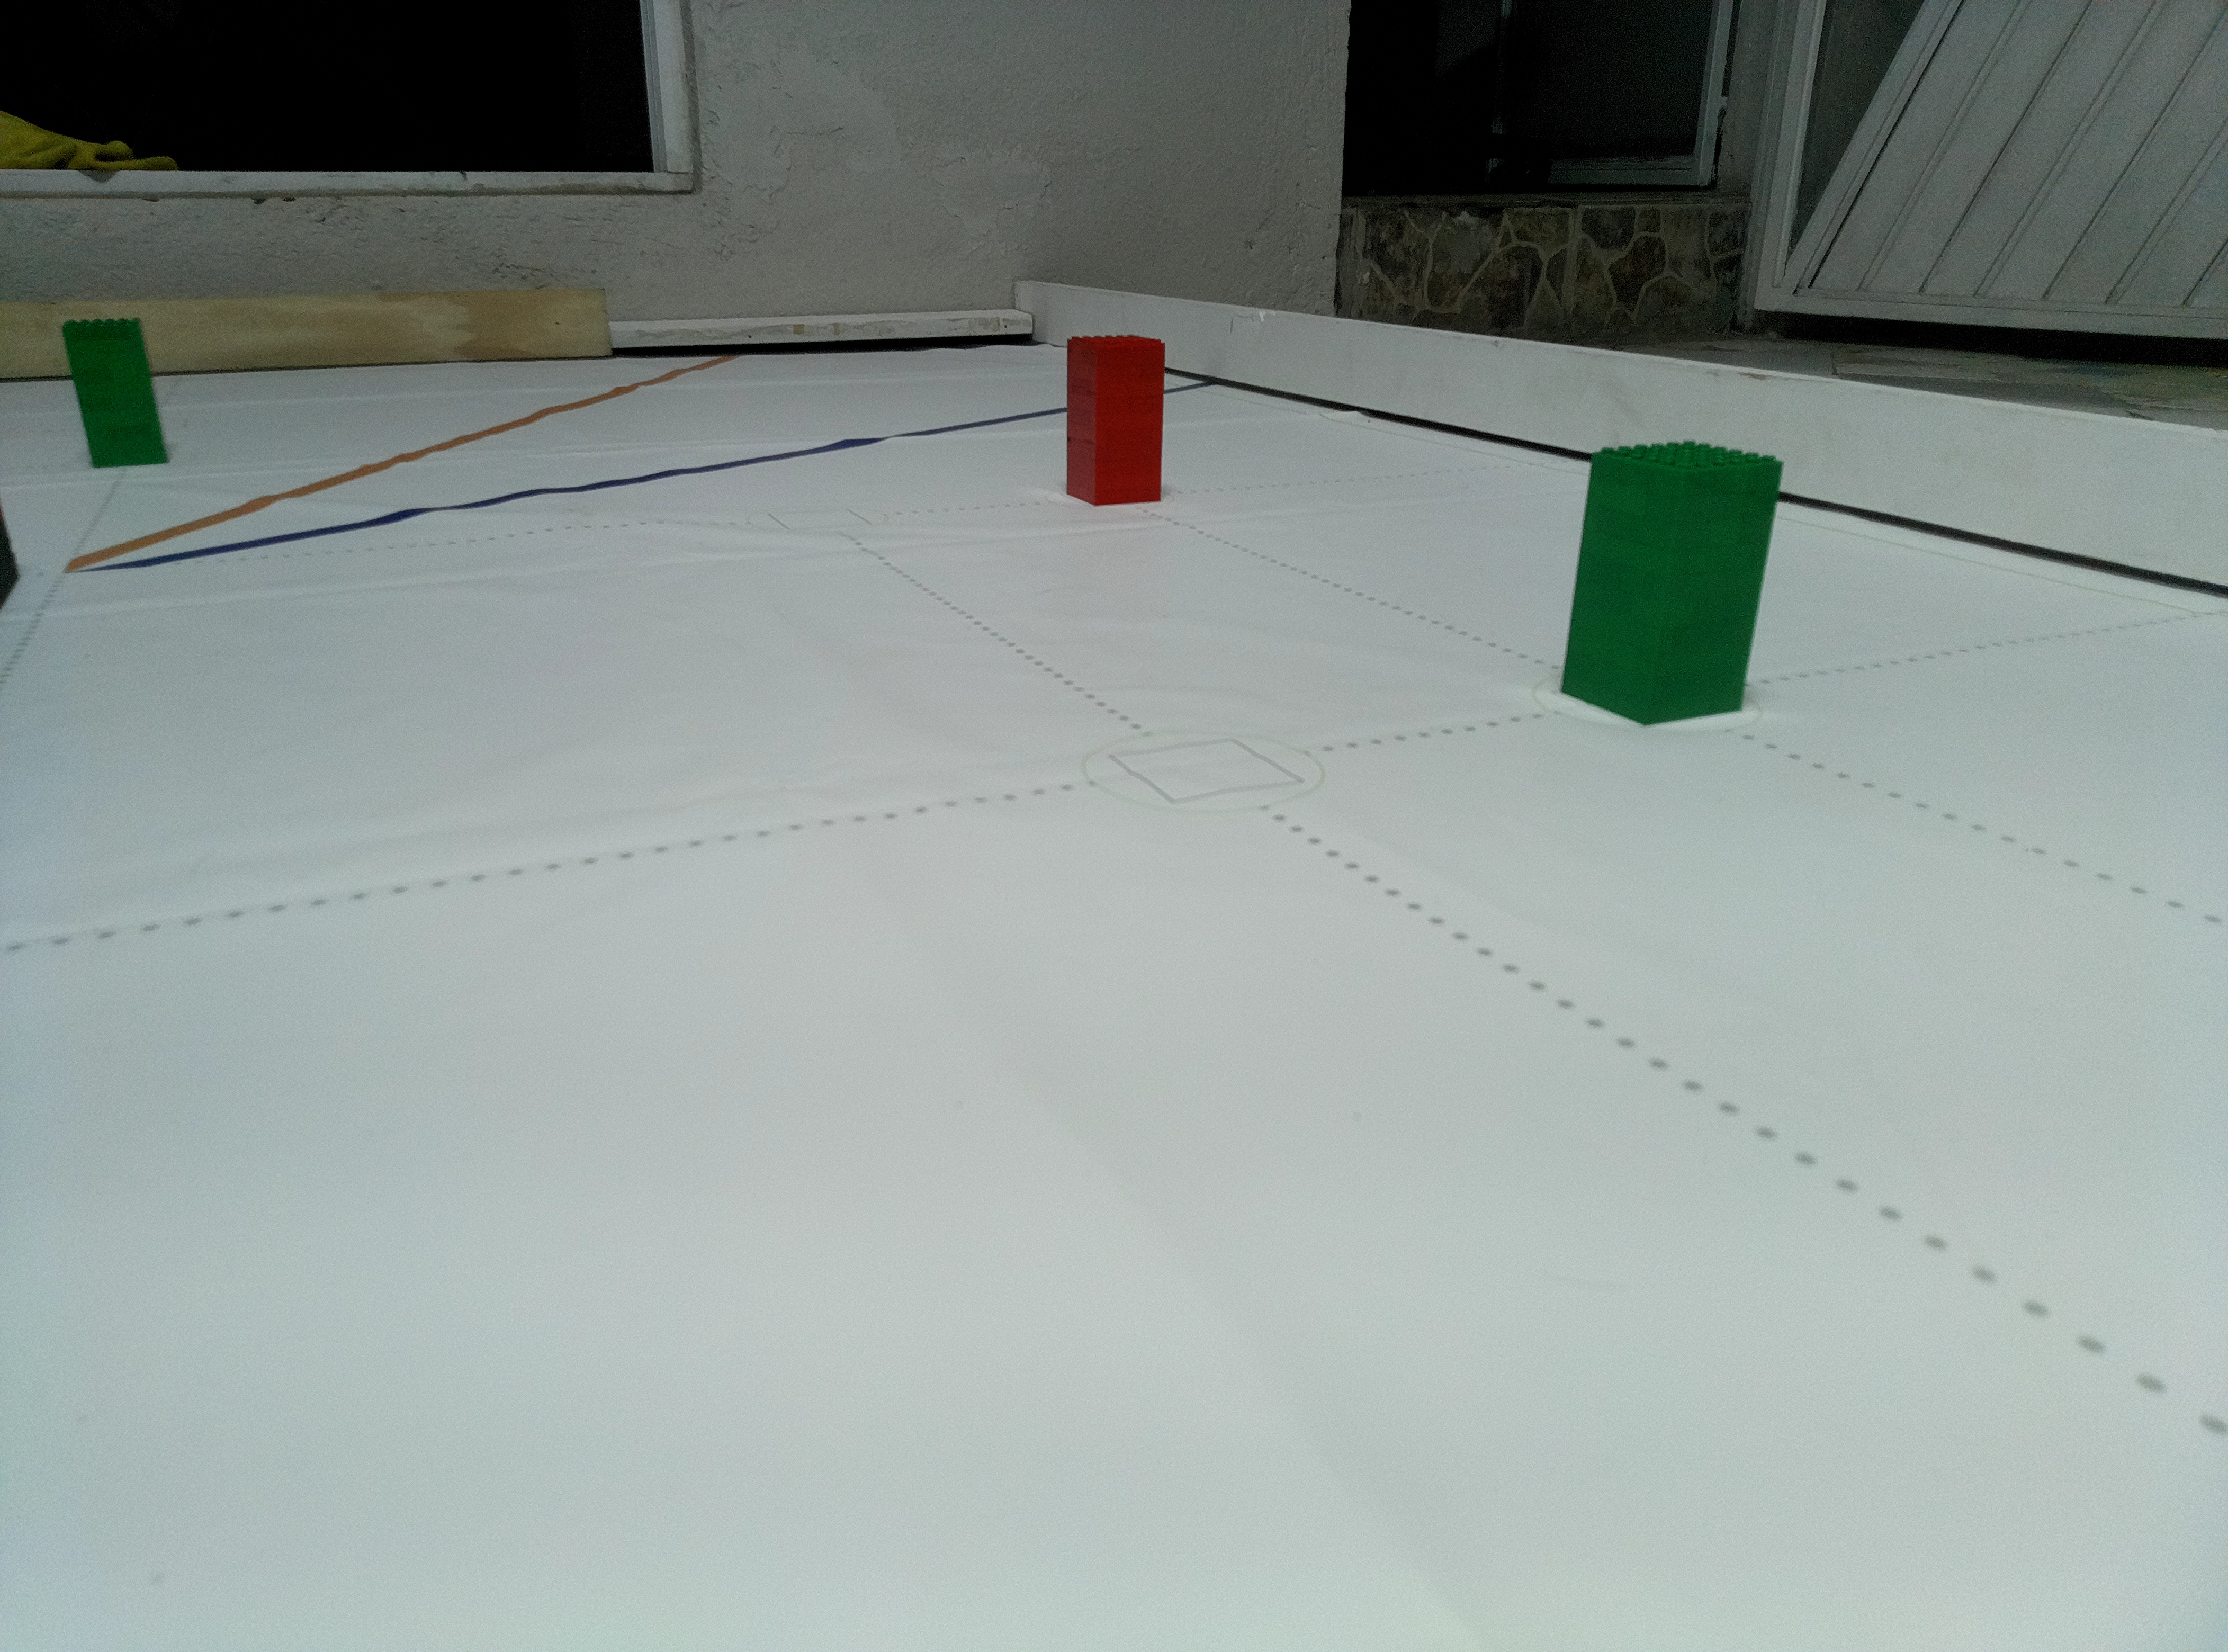greenbox: (1556, 437, 1787, 729), (57, 318, 174, 470)
redbox: (1064, 331, 1168, 508)
